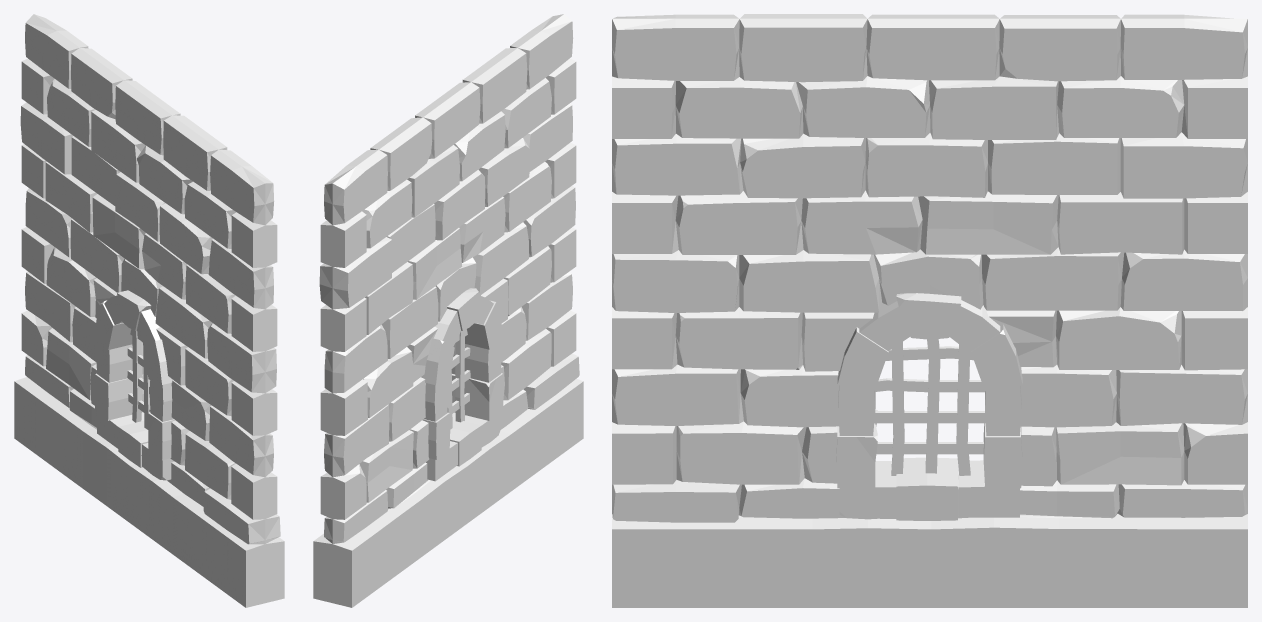
File: Wall_16.obj
The picture shows the model from 3 angles, left to right: view 1: azimuth 30°, elevation 25°; view 2: azimuth 150°, elevation 25°; view 3: azimuth 270°, elevation 25°; orthographic projection. The views are drawn at different scales.
Parts seen in each view (by area): view 1: Wall_16; view 2: Wall_16; view 3: Wall_16.
Boxes of the visible parts, <box> form: Wall_16: <box>14,14,284,607</box>; Wall_16: <box>313,14,583,607</box>; Wall_16: <box>612,14,1247,607</box>.
Size of the model in its own units: 0.4276 by 4 by 4.
Materials: 1 (1 with a texture image).
